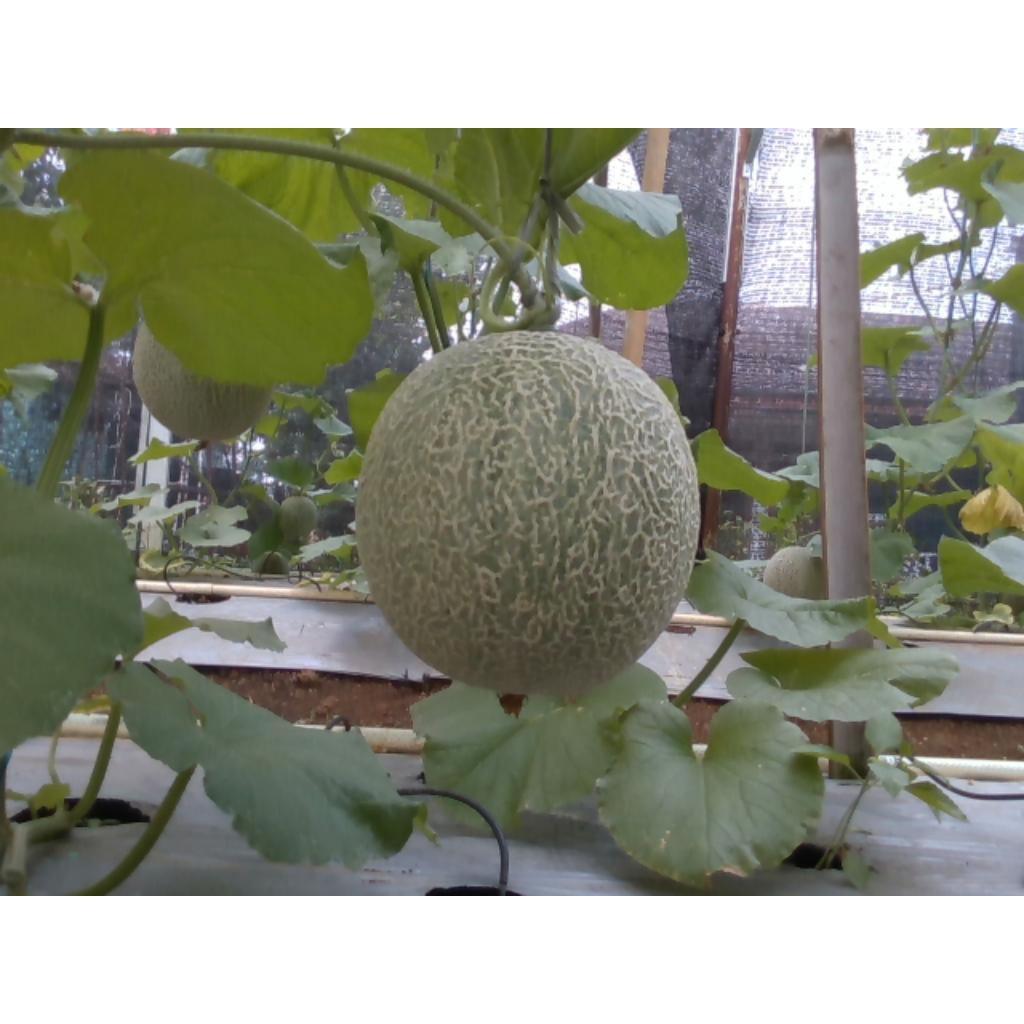melon: (357, 331, 698, 695)
